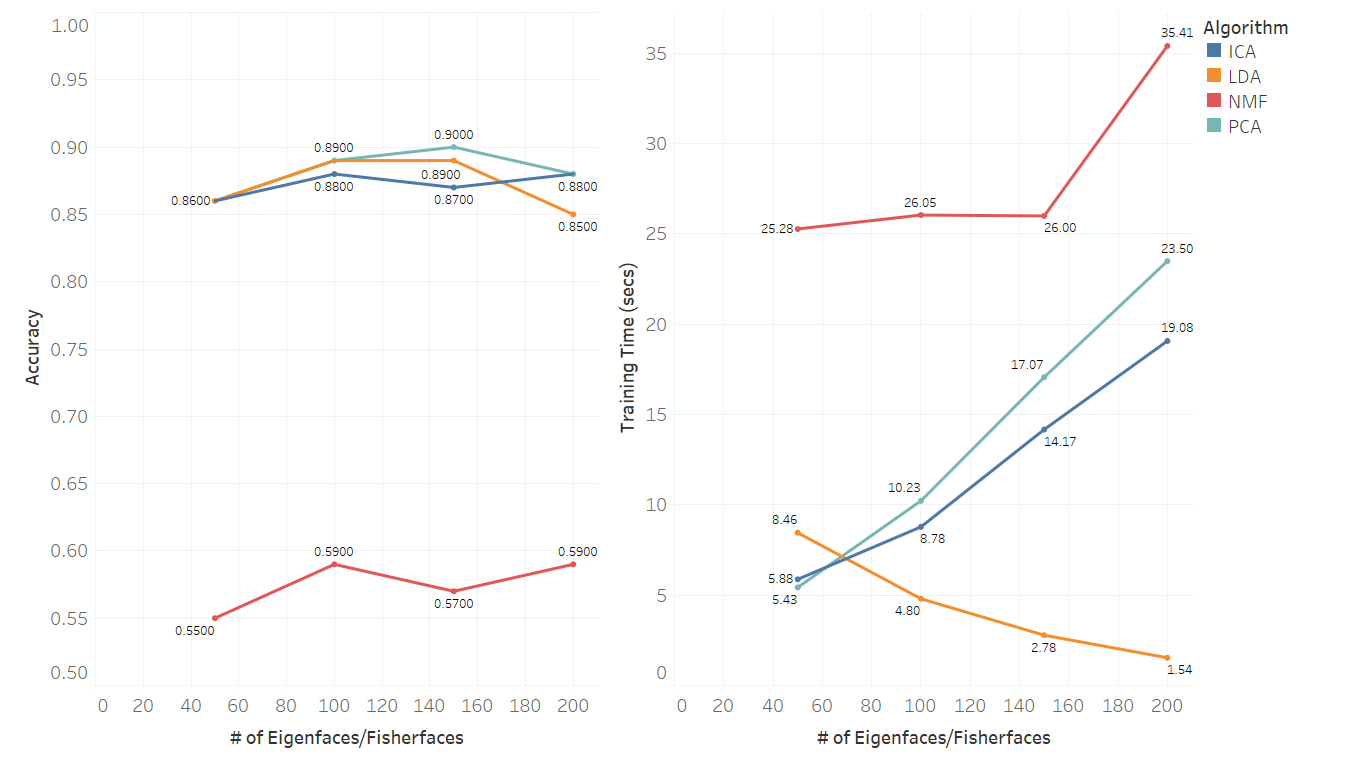

This screenshot's page, from the dashboard's own definition file:
{"tool":"tableau","page":{"name":"Dashboard 1","canvas":[1604,832],"ordinal":0},"visuals":[{"type":"worksheet","title":"Sheet 2","mark":"Line","rows":["Pivot Field Values"],"cols":["Eigenfaces"],"box":[8,8,714,816]},{"type":"worksheet","title":"Sheet 1","mark":"Line","rows":["Pivot Field Values"],"cols":["Eigenfaces"],"box":[722,8,714,816]},{"type":"legend","title":"Sheet 1","param":"[federated.09zivlv0mrfrho11jcdhk09qa4je].[none:Pivot Field Names:nk]","box":[1436,8,160,134]}]}

Visuals, with their boxes on the page's 1604x832 design canvas (x1, y1, x2, y2). These are canvas units, not pixel positions in the 1366x768 screenshot, which may show the page scaled, cropped or inside an application window:
"Sheet 2" worksheet (Line marks): locate(8, 8, 722, 824)
"Sheet 1" worksheet (Line marks): locate(722, 8, 1436, 824)
"Sheet 1" legend: locate(1436, 8, 1596, 142)
